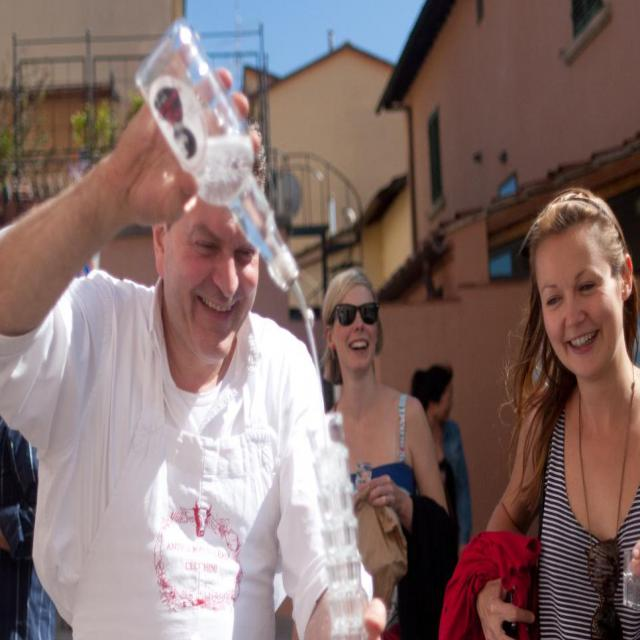Glasses: (328, 302, 381, 330)
